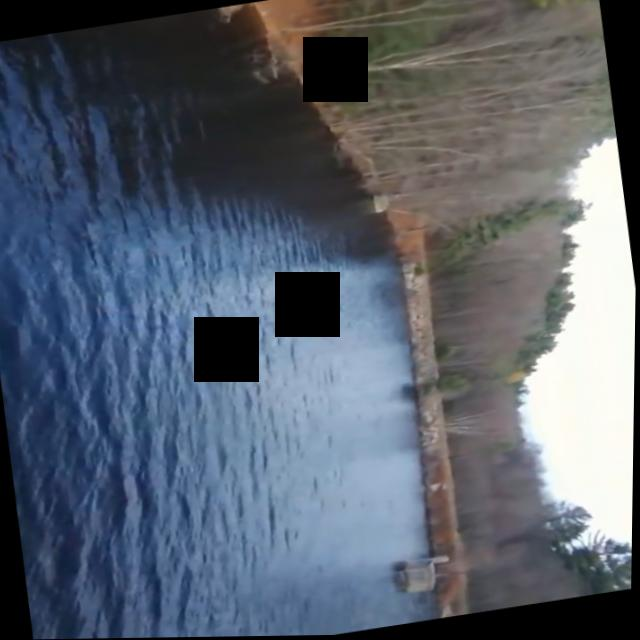Building: (393, 552, 459, 602)
Tree: (261, 0, 617, 183), (393, 193, 614, 396), (458, 525, 634, 616), (460, 499, 602, 555)
